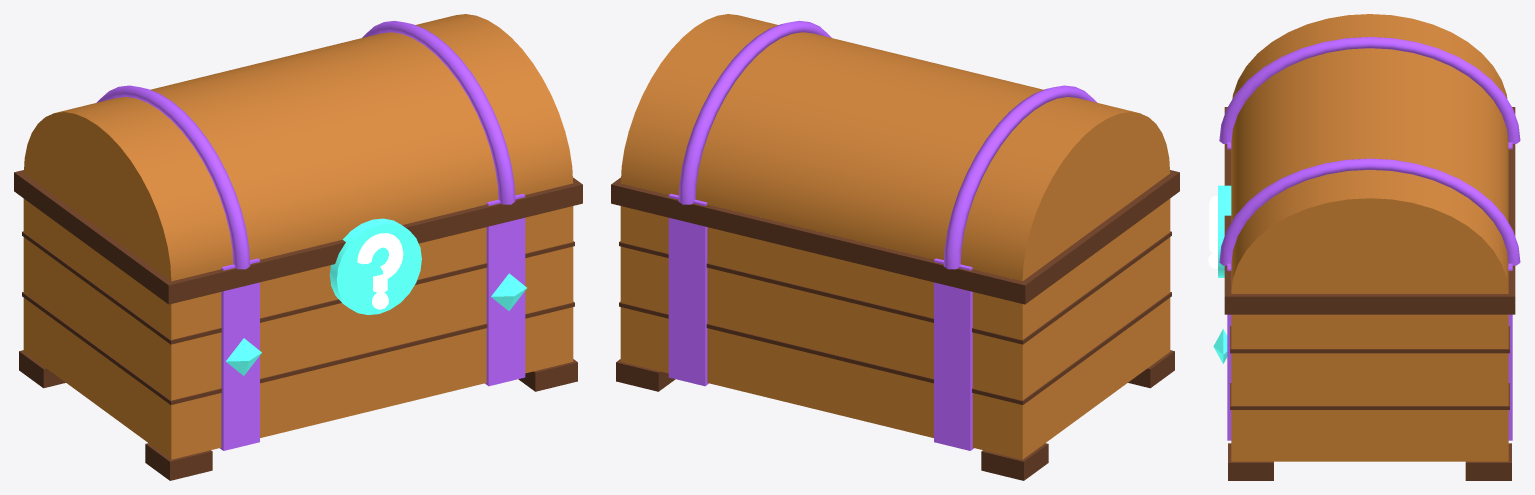
The model's file is egg_chest.5ffa3a66.glb.
3 renders of one model, left to right at view 1: azimuth 30°, elevation 25°; view 2: azimuth 150°, elevation 25°; view 3: azimuth 270°, elevation 25°, orthographic. The views are drawn at different scales.
Visible parts, largest first — view 1: egg_chest, lid; view 2: egg_chest, lid; view 3: lid, egg_chest.
Part boxes in pixels (left/top/right/bottom): egg_chest: left=14, top=170, right=582, bottom=480; lid: left=23, top=14, right=573, bottom=281; egg_chest: left=611, top=170, right=1179, bottom=480; lid: left=620, top=14, right=1170, bottom=281; lid: left=1219, top=14, right=1520, bottom=293; egg_chest: left=1208, top=107, right=1515, bottom=480.
Bounding box in the file's own units: 0.68 × 0.4837 × 0.4724.
